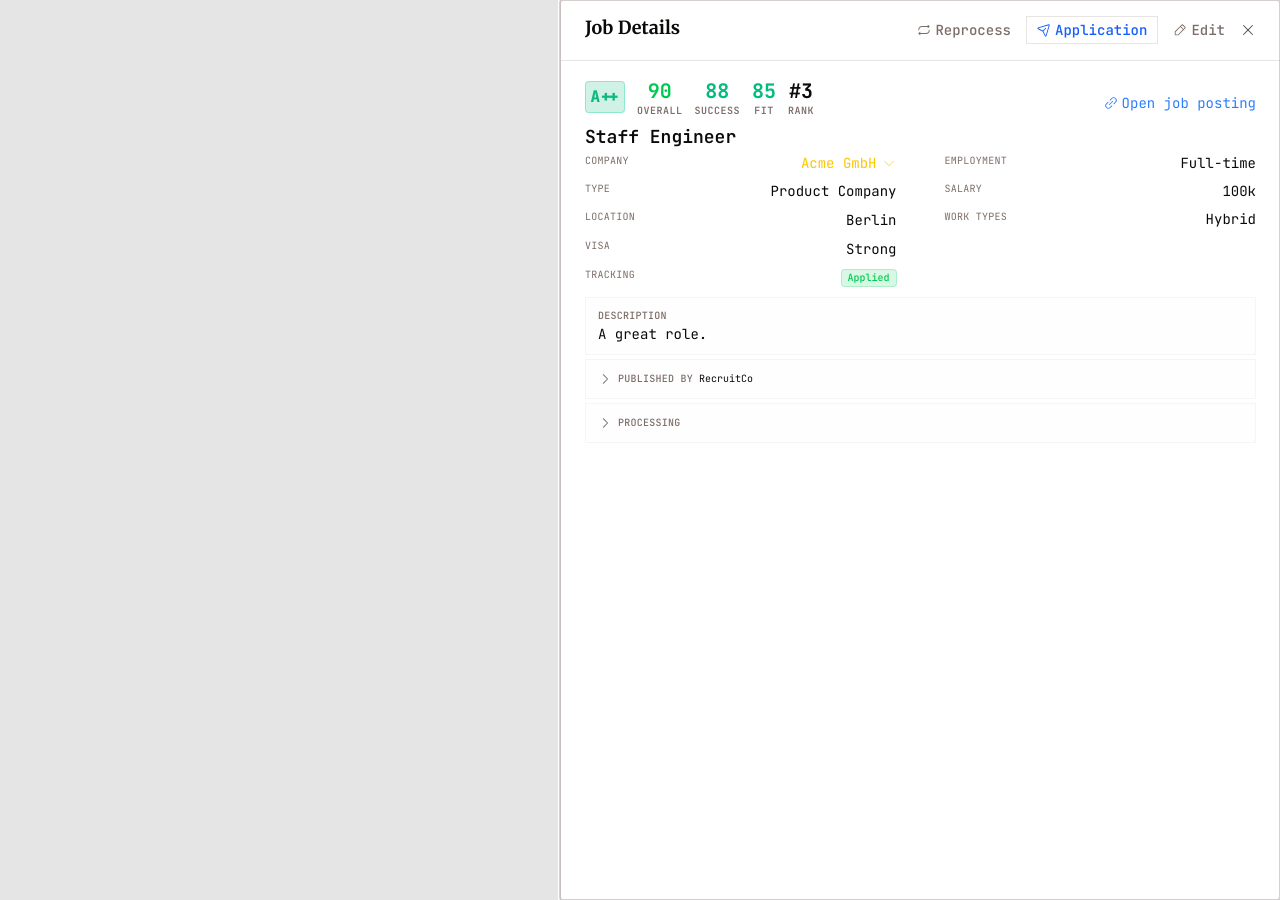
Test: JobDetailDrawer published by › shows the recruiters as Published by
Expected: the heading "Staff Engineer" is shown, [585, 125, 736, 148]
Click the text "Published by" at (656, 380), box [618, 374, 693, 386]
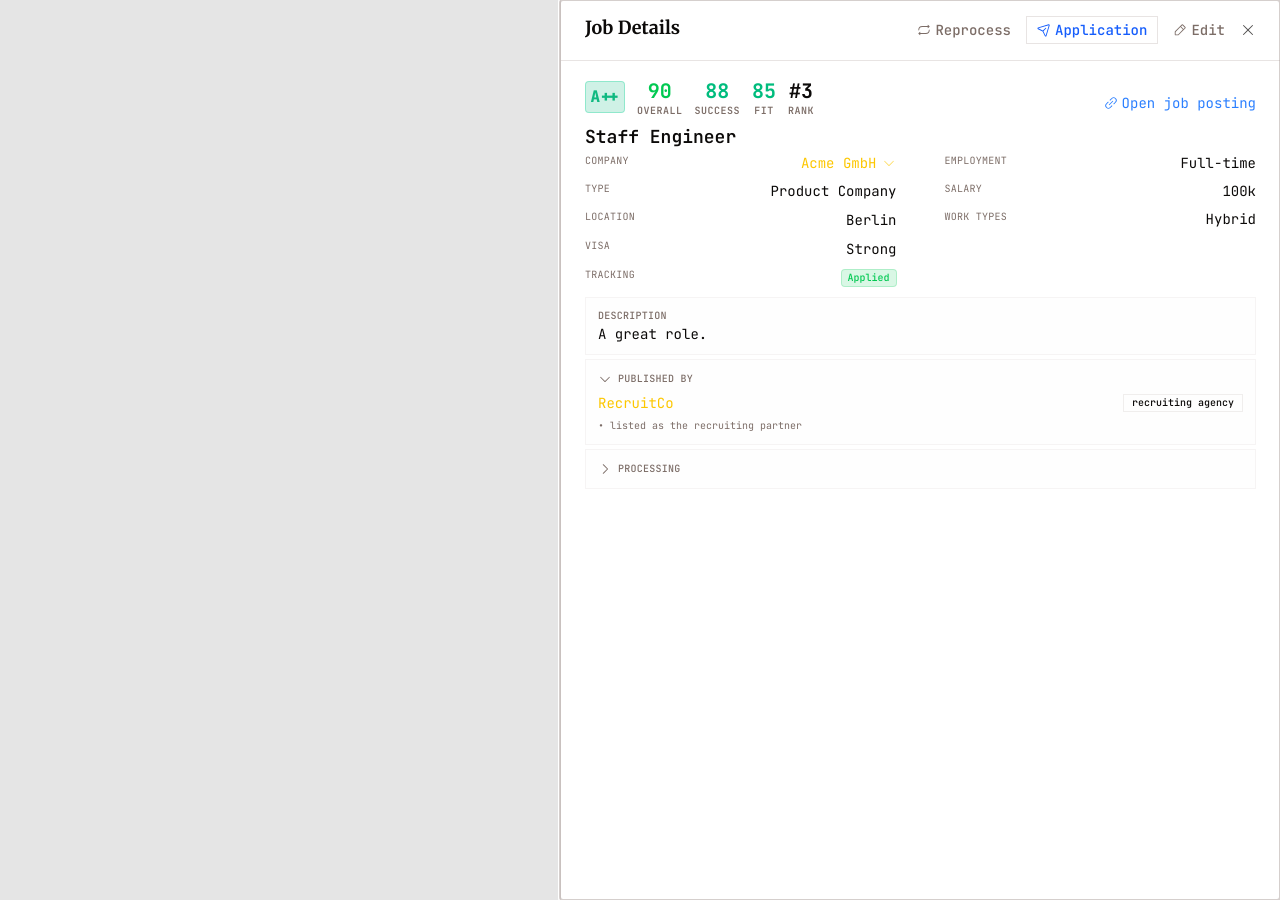
Now the text "recruiting agency" is shown, box [1123, 394, 1243, 412]
Now the text "listed as the recruiting partner" is shown, box [610, 420, 802, 432]
